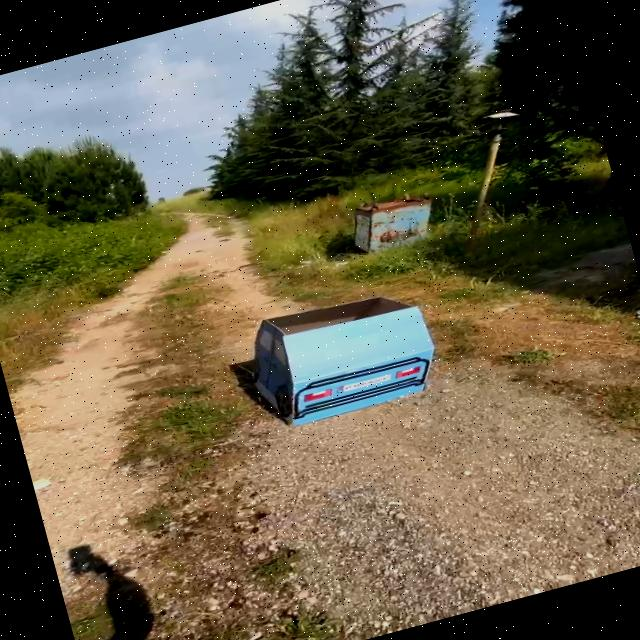blue_car: (207, 268, 461, 448)
